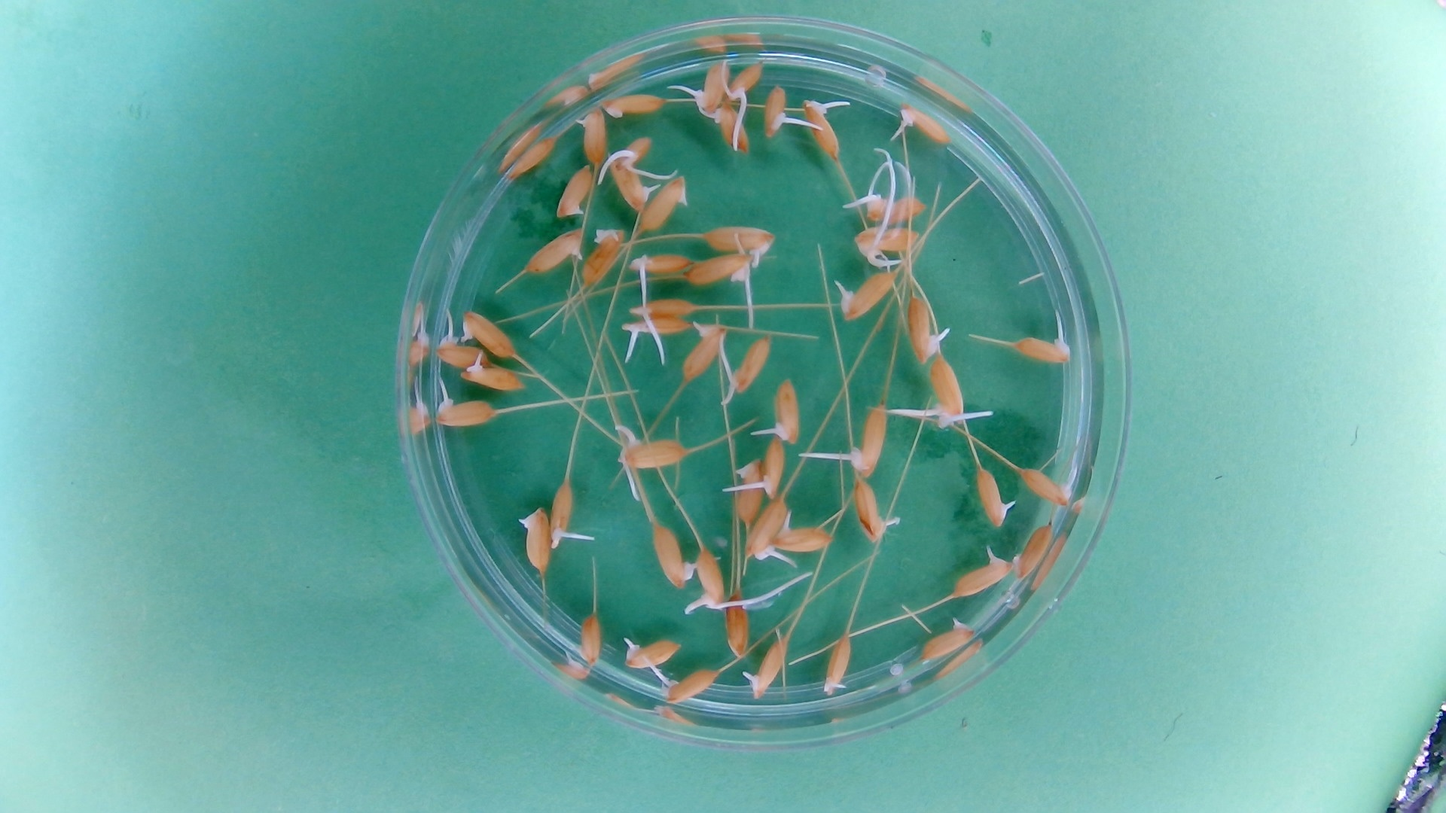no: (638, 173, 690, 234), (649, 521, 693, 590), (581, 226, 625, 289), (502, 132, 557, 182), (1011, 519, 1055, 581), (516, 505, 551, 575), (730, 456, 764, 527), (555, 162, 594, 219), (600, 90, 667, 120), (574, 612, 603, 666)
yes: (835, 268, 897, 321), (744, 494, 792, 561), (926, 352, 967, 429), (847, 402, 889, 477), (679, 318, 728, 382), (459, 307, 518, 359), (523, 227, 585, 275), (950, 550, 1012, 598), (615, 431, 688, 471), (726, 333, 773, 395), (743, 634, 787, 699), (850, 476, 891, 544), (905, 291, 943, 364), (853, 222, 920, 263), (700, 222, 777, 257), (919, 616, 977, 662), (975, 464, 1015, 528), (896, 101, 954, 145), (684, 251, 752, 288), (767, 375, 803, 444), (803, 96, 841, 160), (433, 391, 497, 429), (691, 547, 727, 614), (461, 354, 526, 391), (859, 191, 928, 225), (657, 667, 718, 705), (771, 517, 833, 554), (1020, 465, 1075, 506), (575, 104, 609, 170), (621, 635, 683, 671), (694, 57, 731, 115), (820, 632, 853, 696), (713, 99, 750, 155), (721, 590, 751, 659), (548, 479, 578, 548), (433, 333, 488, 367), (1014, 333, 1073, 364), (621, 313, 691, 339), (606, 165, 647, 209), (725, 57, 764, 103), (626, 251, 693, 277), (758, 437, 786, 498), (761, 82, 790, 138), (630, 300, 703, 320), (615, 137, 654, 173)
